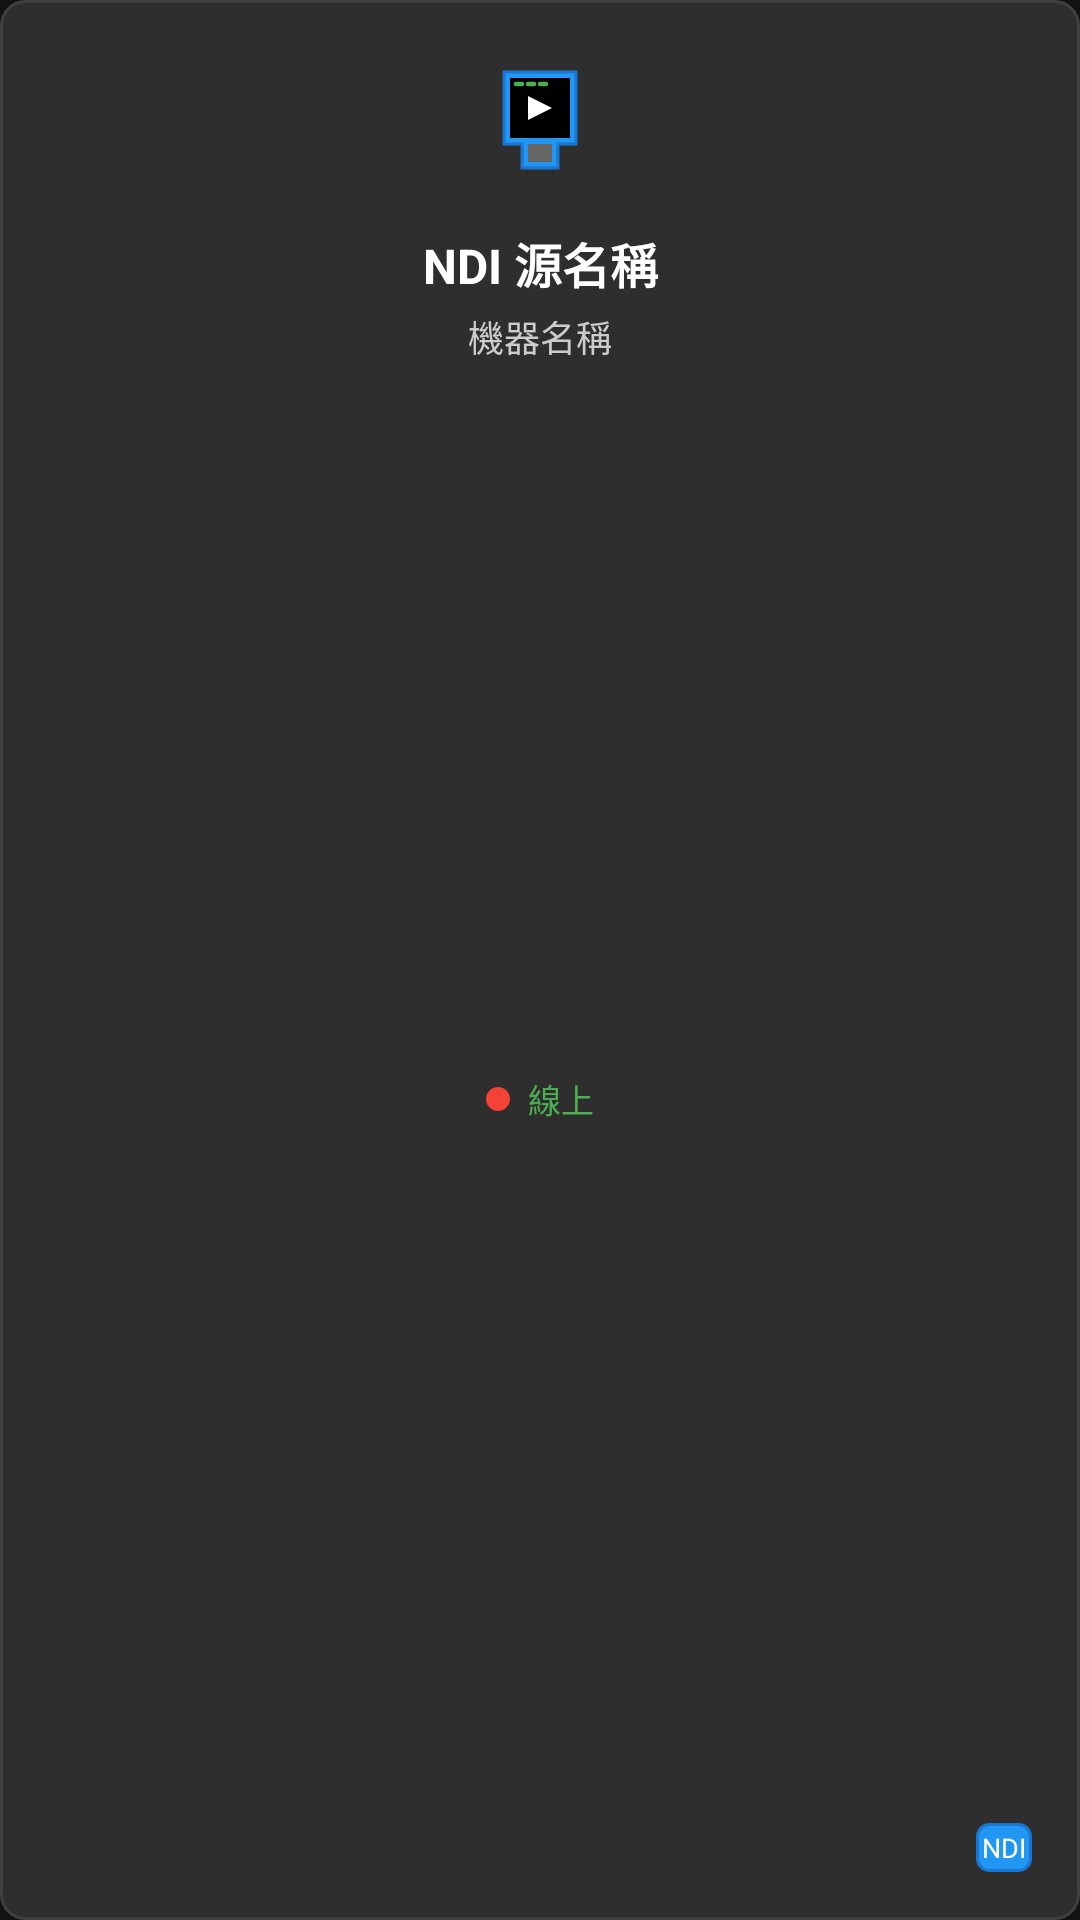

Where to tap for icons on this 1080w x 1920h app screen, as (x=x, y=y):
ndi source: (x=540, y=120)
source status indicator: (x=498, y=1099)
